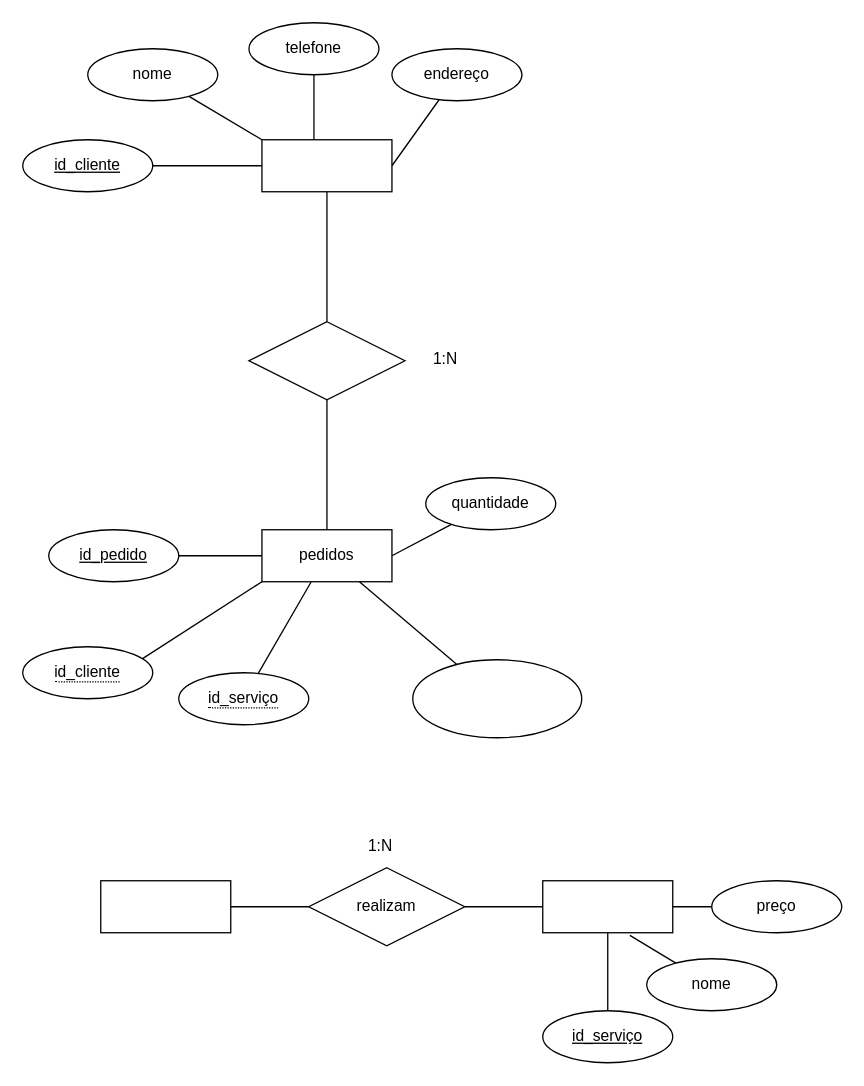
Some shapes in this 864 by 1086 pixel diagram are drawn without their labels. Each missing label, with the box of its shape:
clientes: (261, 138, 392, 192)
data_pedido(pedido, entrega): (411, 658, 582, 738)
fazem: (248, 320, 405, 400)
lavanderia: (99, 879, 231, 933)
serviços: (541, 879, 673, 933)
